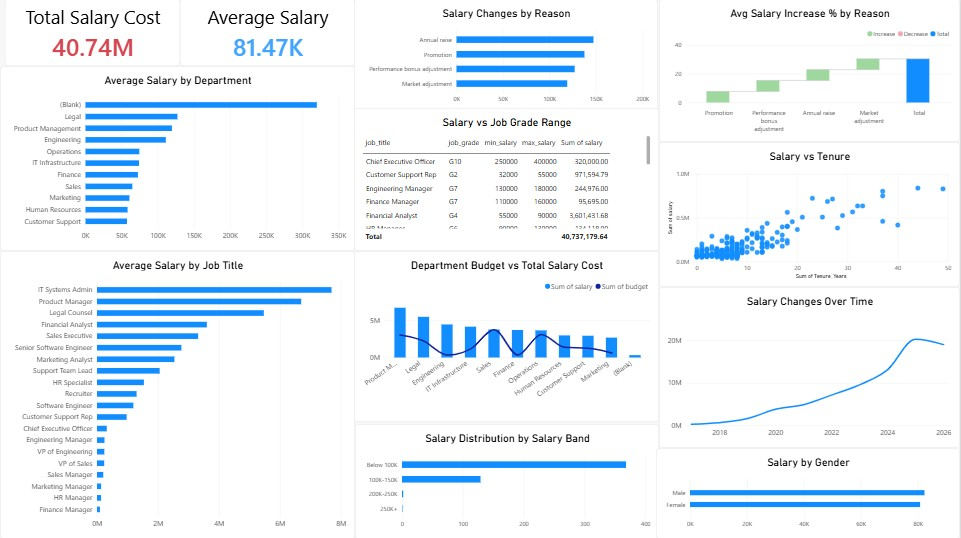

The page's visual inventory and layout, read from the dashboard file:
{"tool":"powerbi","page":{"name":"Compensation & Salary","canvas":[1920,1080],"ordinal":1},"visuals":[{"type":"cardVisual","fields":{"Data":["Employees.Total_Salary_Cost"]},"box":[10,0,350,134.3],"z":0},{"type":"cardVisual","fields":{"Data":["Employees.Avg_Salary"]},"box":[360,0,350,134.3],"z":1000},{"type":"clusteredBarChart","title":"Average Salary by Department","fields":{"Category":["Departments.department_name"],"Y":["Avg(Employees.salary)"]},"box":[0,134,710,370],"z":2000},{"type":"clusteredBarChart","title":"Average Salary by Job Title","fields":{"Category":["Jobs.job_title"],"Y":["Sum(Employees.salary)"]},"box":[0,504,710,576],"z":3000},{"type":"clusteredBarChart","title":"Salary Distribution by Salary Band","fields":{"Category":["Employees.Salary_Band"],"Y":["CountNonNull(Employees.employee_id)"]},"box":[710,850,608,230],"z":4000},{"type":"clusteredBarChart","title":"Salary by Gender","fields":{"Category":["Employees.gender"],"Y":["Avg(Employees.salary)"]},"box":[1312,898,608,182],"z":5000},{"type":"lineChart","title":"Salary Changes Over Time","fields":{"Category":["SalaryHistory.change_date.Variation.Date Hierarchy.Year","SalaryHistory.change_date.Variation.Date Hierarchy.Quarter","SalaryHistory.change_date.Variation.Date Hierarchy.Month","SalaryHistory.change_date.Variation.Date Hierarchy.Day"],"Y":["Sum(SalaryHistory.new_salary)"]},"box":[1318,576,602,322],"z":6000},{"type":"clusteredBarChart","title":"Salary Changes by Reason","fields":{"Category":["SalaryHistory.change_reason"],"Y":["Sum(SalaryHistory.salary_history_id)"]},"box":[708,0,608,230],"z":7000},{"type":"scatterChart","title":"Salary vs Tenure","fields":{"Category":["Employees.first_name"],"X":["Sum(Employees.Tenure_Years)"],"Y":["Sum(Employees.salary)"]},"box":[1318,286,602,290],"z":8000},{"type":"tableEx","title":"Salary vs Job Grade Range","fields":{"Values":["Jobs.job_title","Jobs.job_grade","Jobs.min_salary","Jobs.max_salary","Sum(Employees.salary)"]},"box":[708,218,610,286],"z":9000},{"type":"lineClusteredColumnComboChart","title":"Department Budget vs Total Salary Cost","fields":{"Category":["Departments.department_name"],"Y":["Sum(Employees.salary)"],"Y2":["Sum(Departments.budget)"]},"box":[708,504,610,342],"z":10000},{"type":"waterfallChart","title":"Avg Salary Increase % by Reason","fields":{"Category":["SalaryHistory.change_reason"],"Y":["Avg(SalaryHistory.Salary_Increase_Pct)"]},"box":[1318,0,602,286],"z":11000}]}

Visuals, with their boxes in screenshot pixels (x1, y1, x2, y2), scaled from the page's 1920x1080 canvas onto the 961x538 screenshot:
cardVisual - Employees.Total_Salary_Cost: <bbox>5, 0, 180, 67</bbox>
cardVisual - Employees.Avg_Salary: <bbox>180, 0, 355, 67</bbox>
"Average Salary by Department" clusteredBarChart: <bbox>0, 67, 355, 251</bbox>
"Average Salary by Job Title" clusteredBarChart: <bbox>0, 251, 355, 537</bbox>
"Salary Distribution by Salary Band" clusteredBarChart: <bbox>355, 423, 660, 537</bbox>
"Salary by Gender" clusteredBarChart: <bbox>657, 447, 960, 537</bbox>
"Salary Changes Over Time" lineChart: <bbox>660, 287, 960, 447</bbox>
"Salary Changes by Reason" clusteredBarChart: <bbox>354, 0, 659, 115</bbox>
"Salary vs Tenure" scatterChart: <bbox>660, 142, 960, 287</bbox>
"Salary vs Job Grade Range" tableEx: <bbox>354, 109, 660, 251</bbox>
"Department Budget vs Total Salary Cost" lineClusteredColumnComboChart: <bbox>354, 251, 660, 421</bbox>
"Avg Salary Increase % by Reason" waterfallChart: <bbox>660, 0, 960, 142</bbox>
